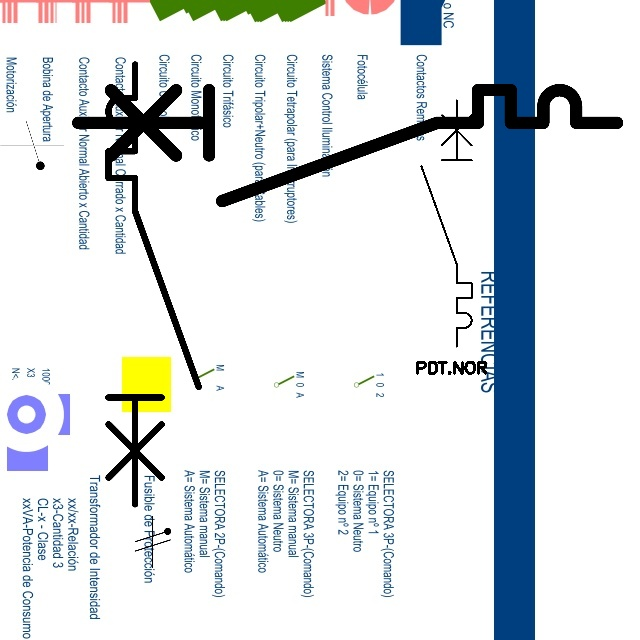interruptor_termomagnetico: (64, 76, 630, 214), (97, 53, 210, 515), (415, 94, 478, 353)
